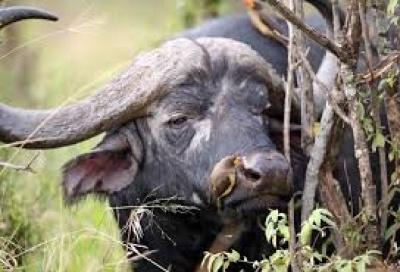buffalo: (0, 15, 297, 272)
